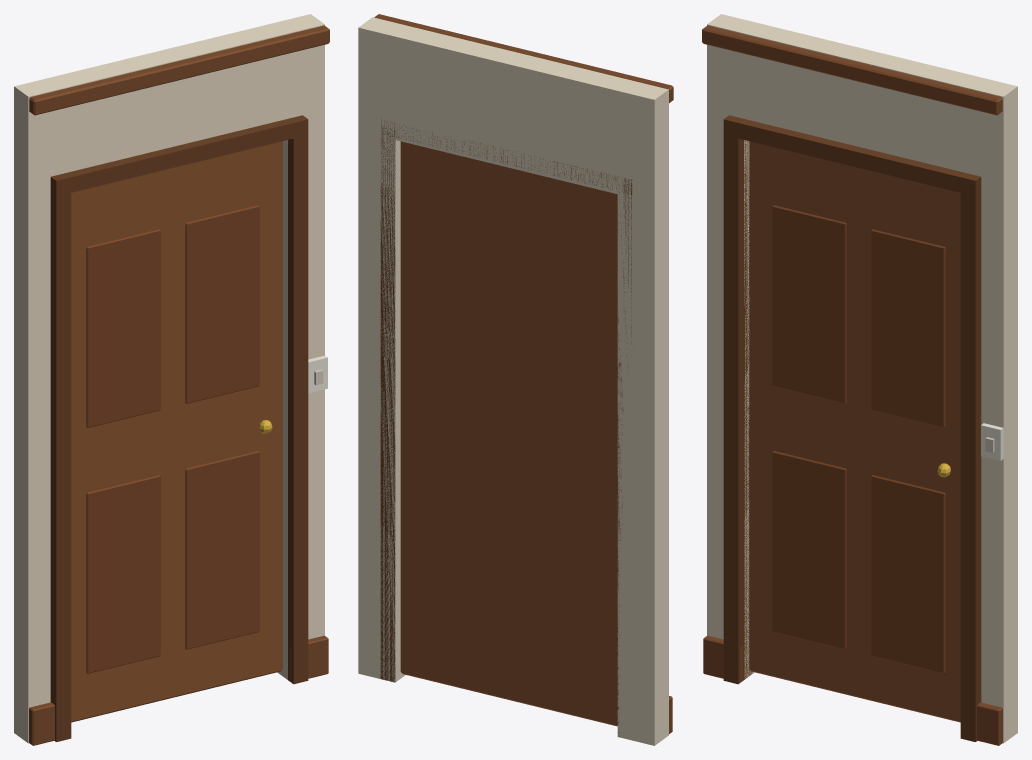
File: wall_door.glb
3 views of the same model, side by side, from view 1: azimuth 30°, elevation 25°; view 2: azimuth 150°, elevation 25°; view 3: azimuth 330°, elevation 25° (orthographic).
Visible parts, largest first — view 1: door, wall_door; view 2: door, wall_door; view 3: door, wall_door.
Part boxes in pixels (left/top/right/bottom): door: left=71, top=141, right=282, bottom=722; wall_door: left=14, top=14, right=329, bottom=745; door: left=400, top=141, right=617, bottom=726; wall_door: left=358, top=14, right=673, bottom=745; door: left=749, top=141, right=960, bottom=722; wall_door: left=702, top=14, right=1017, bottom=745.
Bounding box in the file's own units: 1.2 × 2.5 × 0.14.
